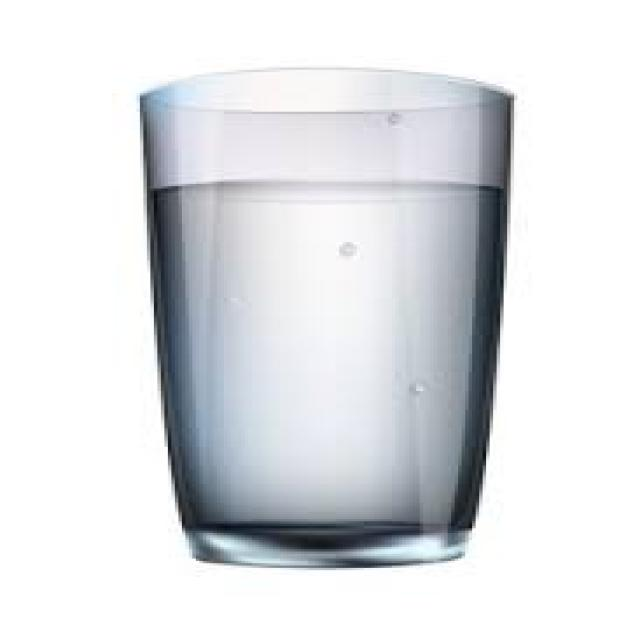glass: (136, 65, 507, 563)
